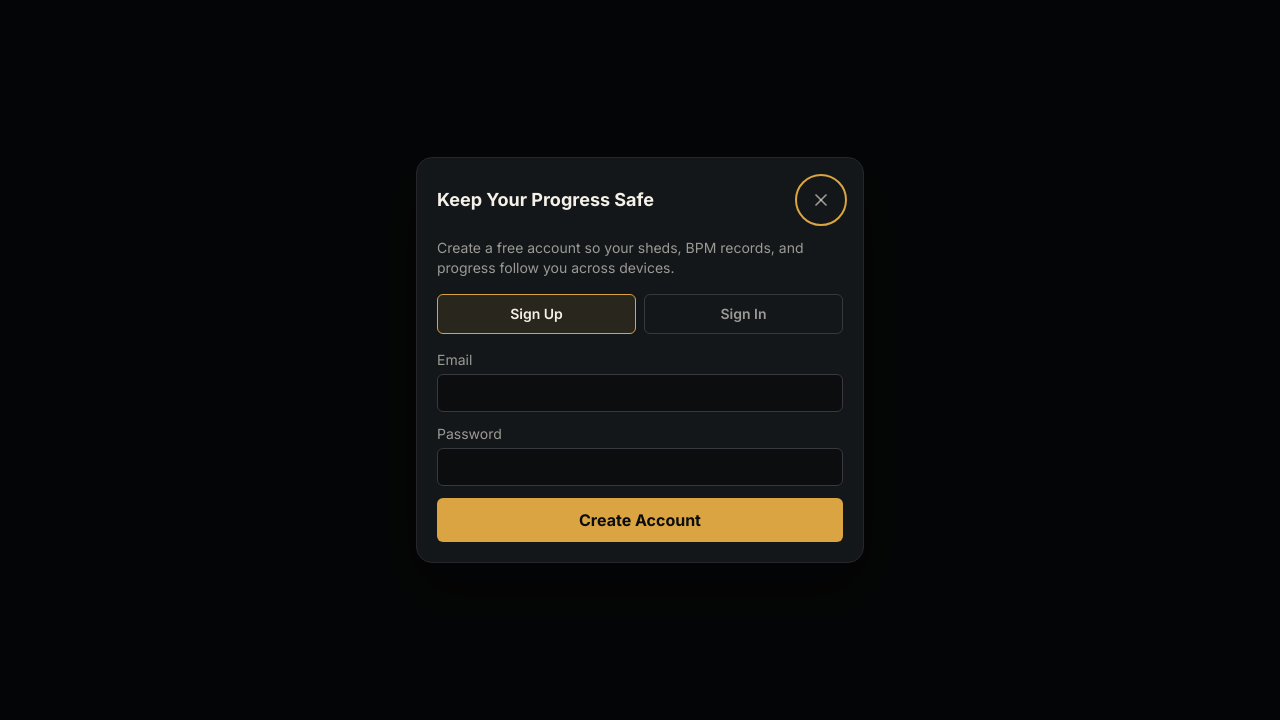
Test: AccountSheet — sign-up messaging matches whether a session actually exists › shows 'check your email' (not false success) when Supabase requires email confirmation
This screenshot has width=1280, height=720.
Type "a@b.com" into the field labelled "Email" at (640, 393), box [437, 374, 843, 412]
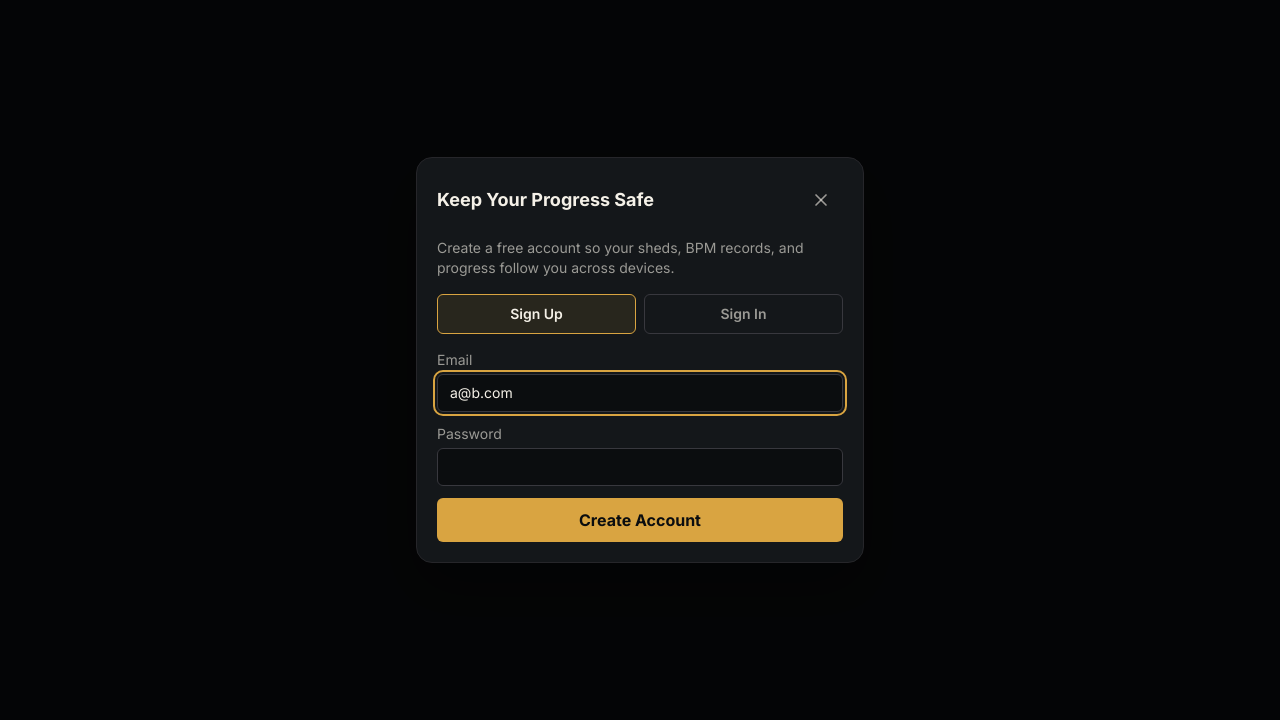
Type "password123" into the password field labelled "Password" at (640, 467), box [437, 448, 843, 486]
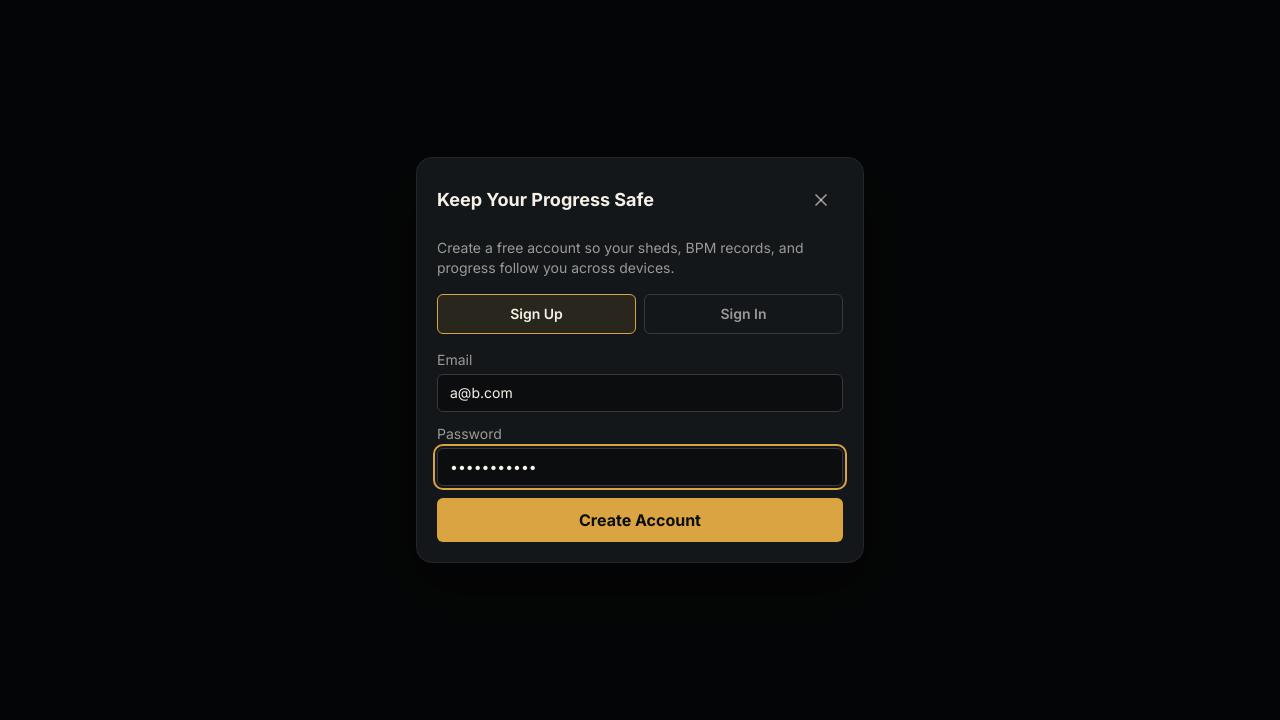
Click the button "Create Account" at (640, 520), box [437, 498, 843, 542]
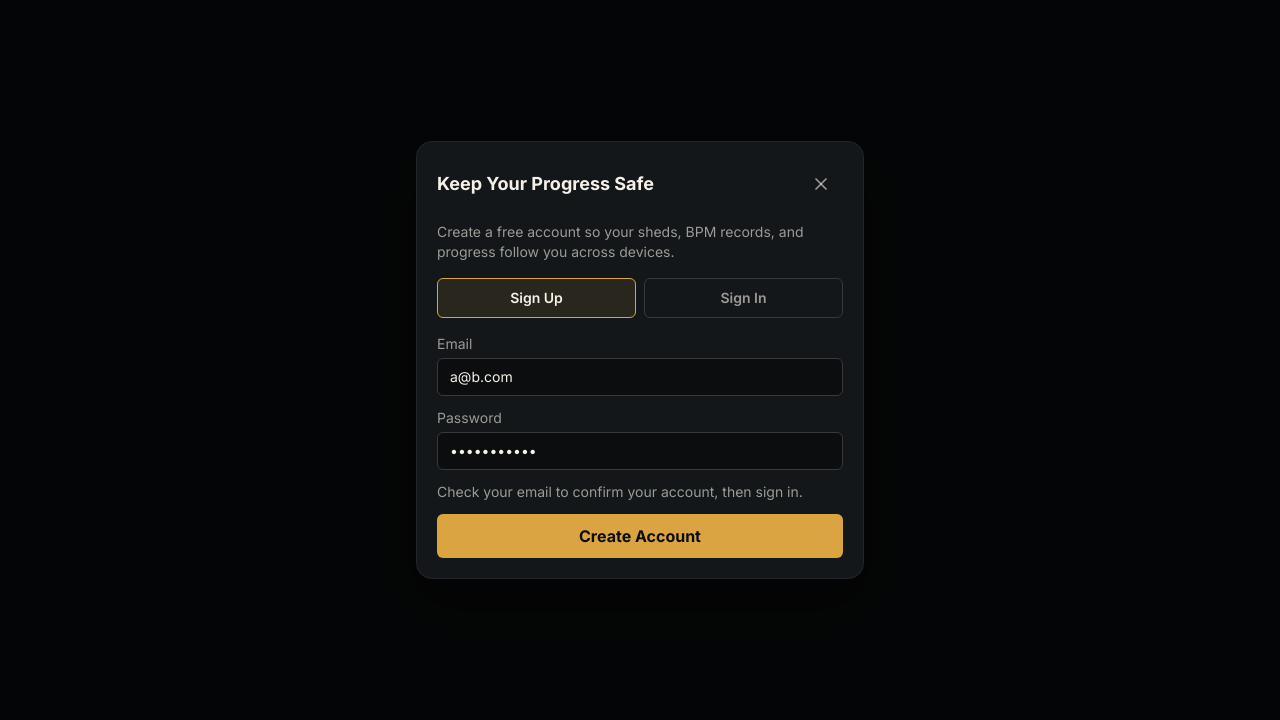
Expected: the text "Check your email to confirm your account, then sign in." is shown, [437, 482, 843, 502]
